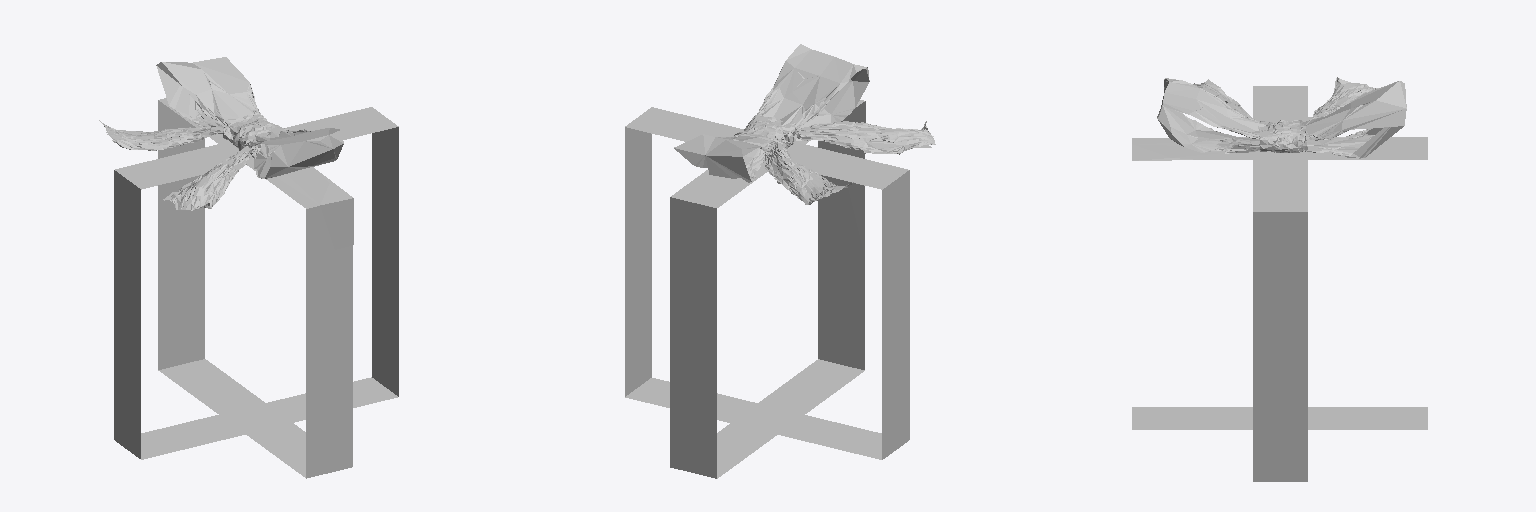
The model's file is ChristmasBow2.obj.
3 views of the same model, side by side, from view 1: azimuth 30°, elevation 25°; view 2: azimuth 150°, elevation 25°; view 3: azimuth 270°, elevation 25° (orthographic).
Size of the model in its own units: 0.2041 by 0.2452 by 0.2025.